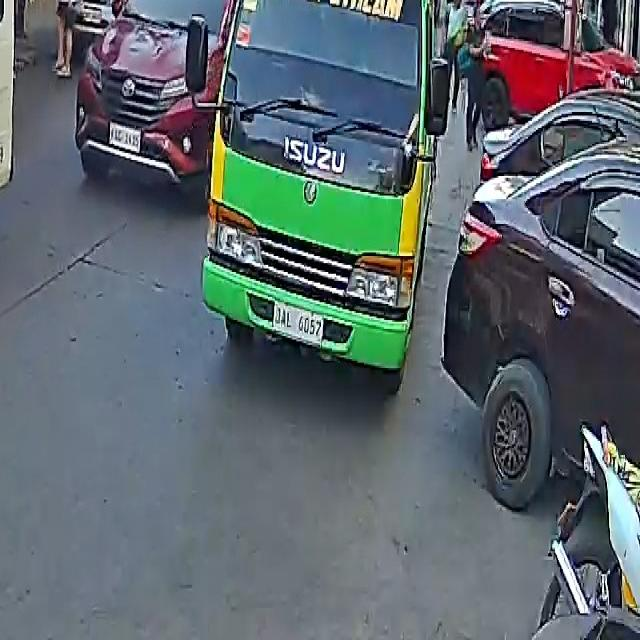car: (442, 108, 640, 510), (71, 0, 243, 196), (464, 0, 640, 128), (82, 0, 194, 20)
